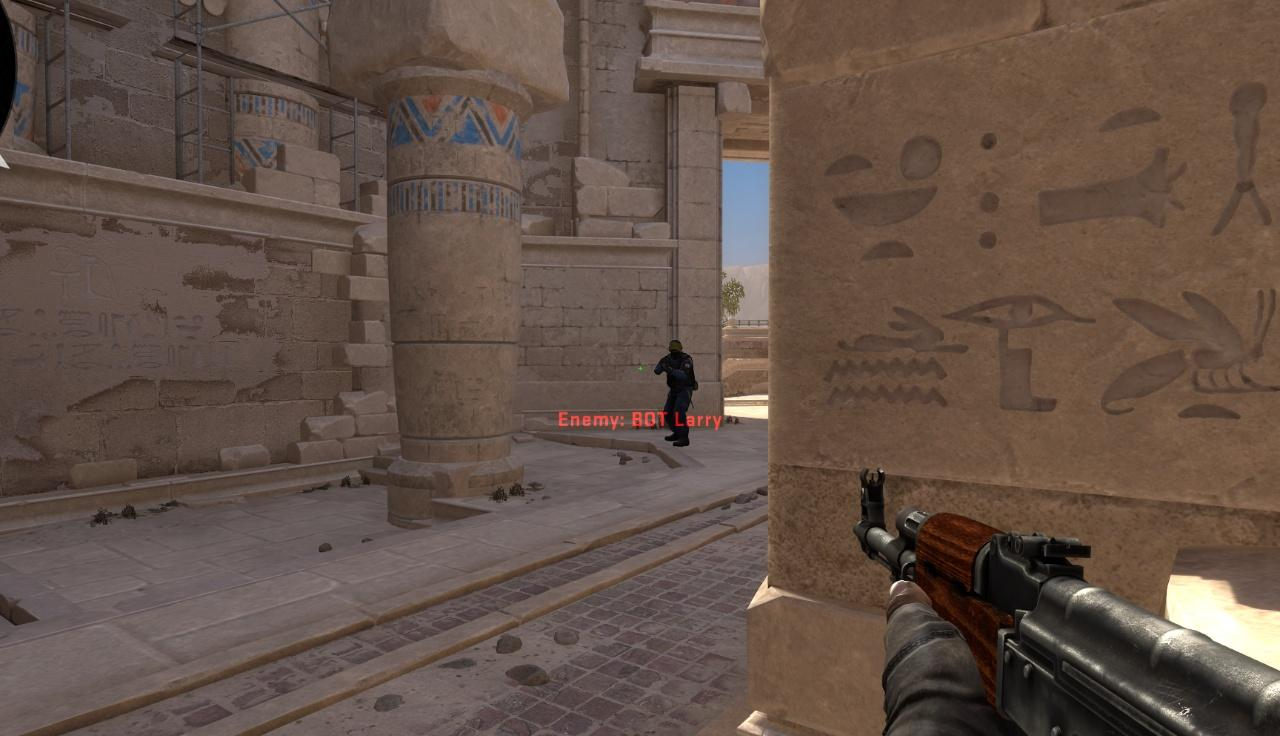ct: (662, 339, 694, 447)
cthead: (669, 340, 683, 357)
rifle: (848, 461, 1280, 736)
